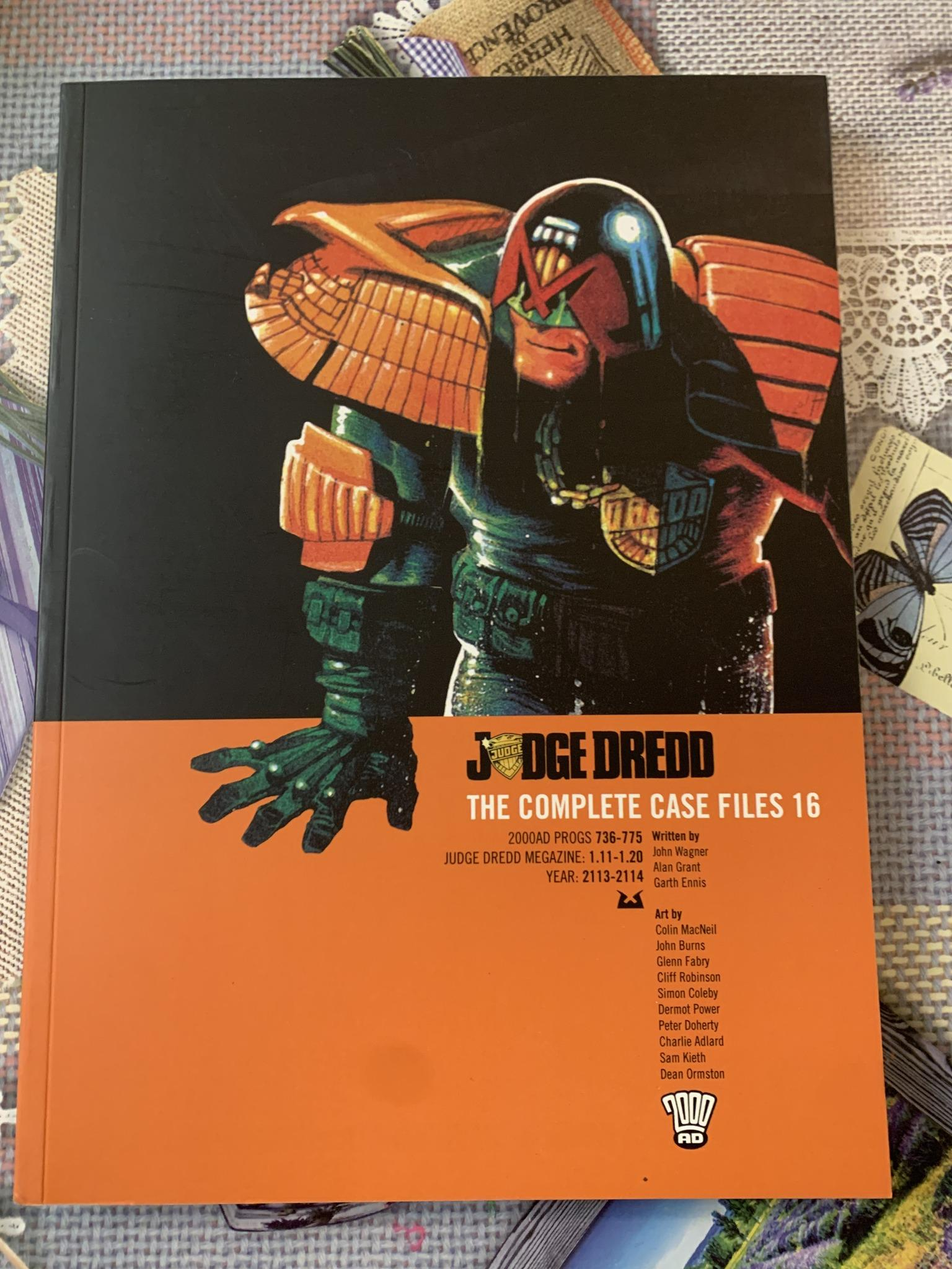comic: (6, 75, 889, 1205)
